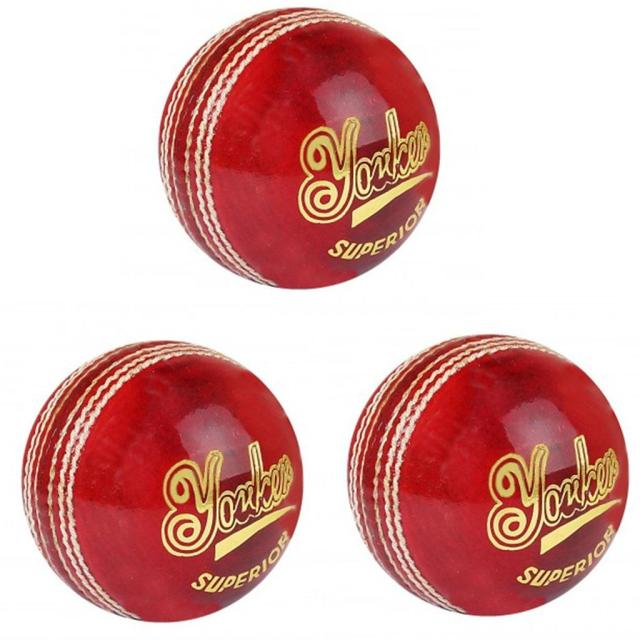Cricket ball: (14, 332, 310, 631), (147, 0, 444, 296), (338, 328, 634, 623)
